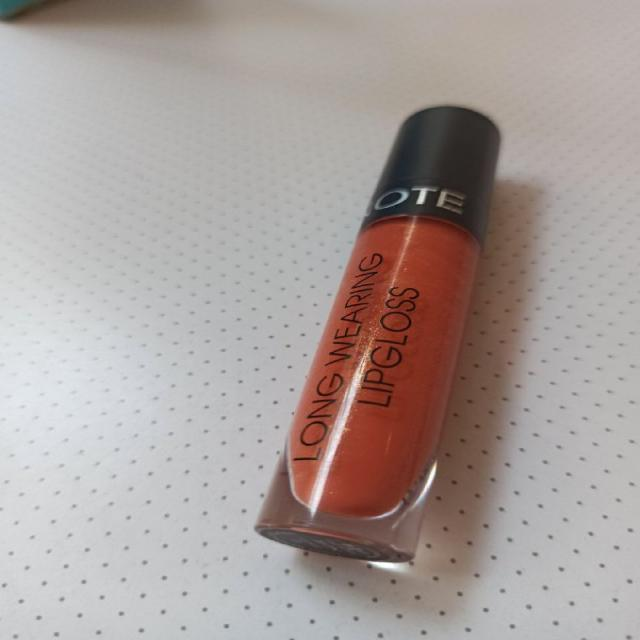lipstick: (252, 104, 500, 562)
